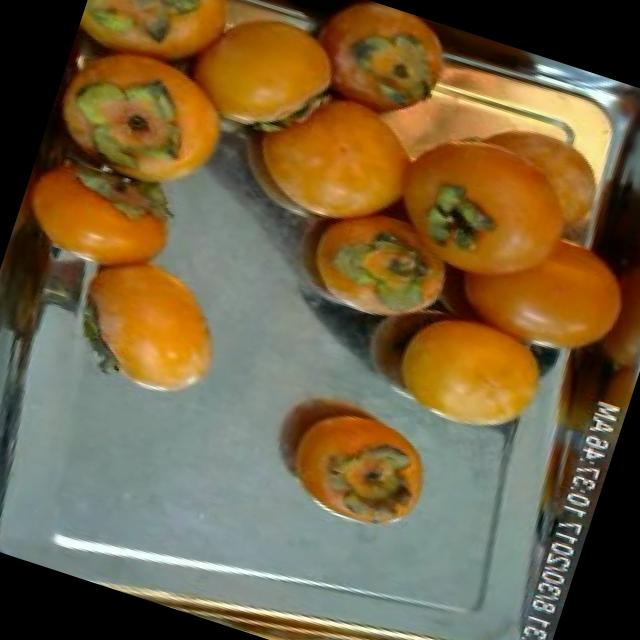Fruit: (36, 19, 263, 218), (39, 226, 252, 419), (367, 282, 576, 464), (248, 372, 457, 552), (7, 134, 207, 300)
